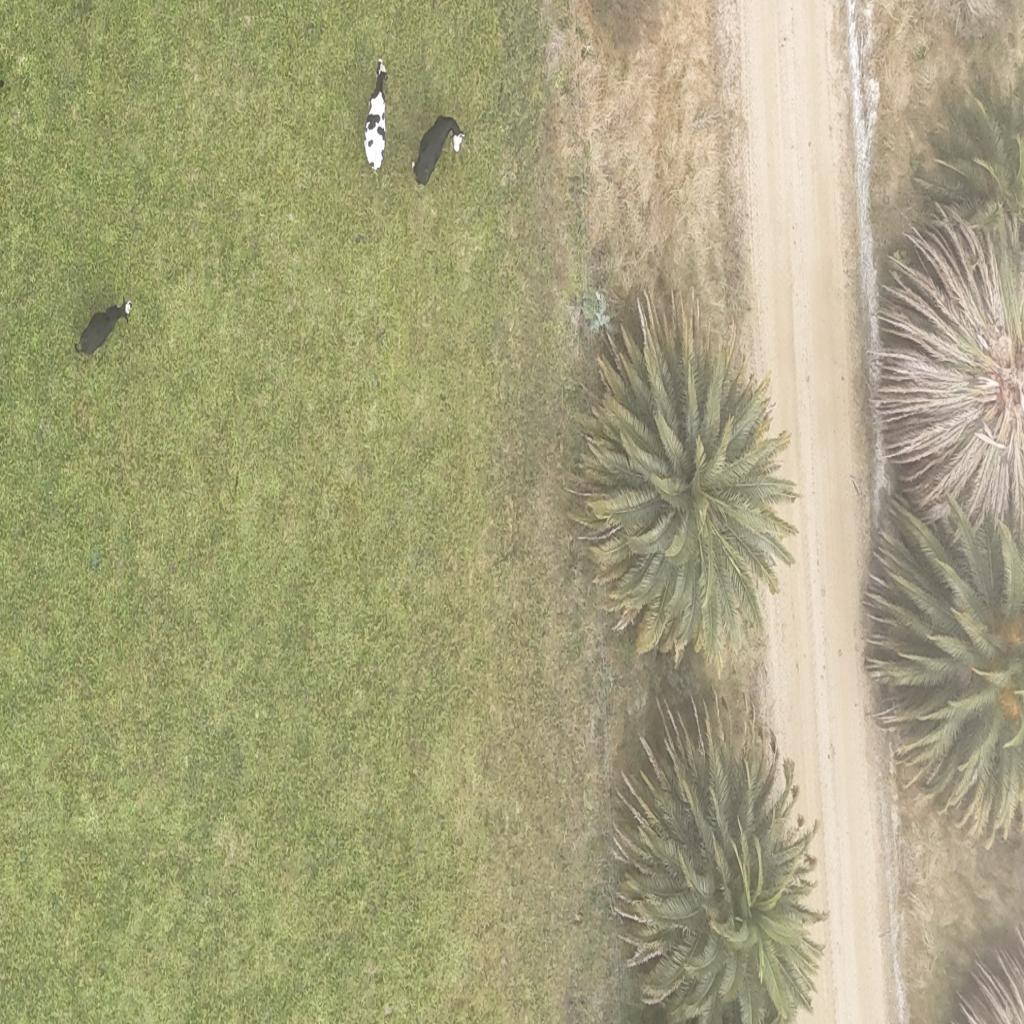cow: (73, 290, 138, 365), (410, 110, 469, 188), (364, 55, 389, 174)
